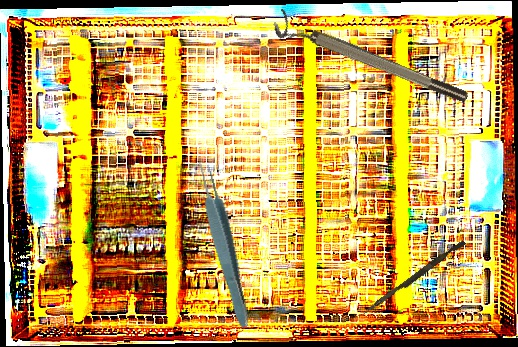Fixation Ring: (269, 8, 471, 115)
Pusher: (362, 237, 466, 319)
Tissue Forceps: (193, 158, 256, 330)
